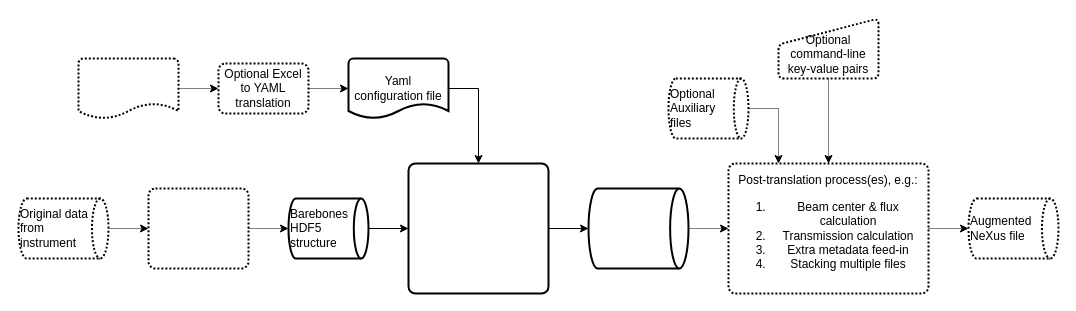
The diagram is 1076 pixels wide and 311 high, and some of its shapes have lost their labels. Here are the shapes that lost their labels. From the top down, the box of each, then its label:
(77, 57, 179, 119): Excel configuration file
(147, 187, 249, 269): Optional EDF (TIFF, ...) to HDF5 translation through FabIO
(407, 162, 549, 294): HDF5Translator: Tree_copy Data Translation add attributes prune link
(587, 187, 689, 269): Diamond / DAWN-compatible NeXus file
